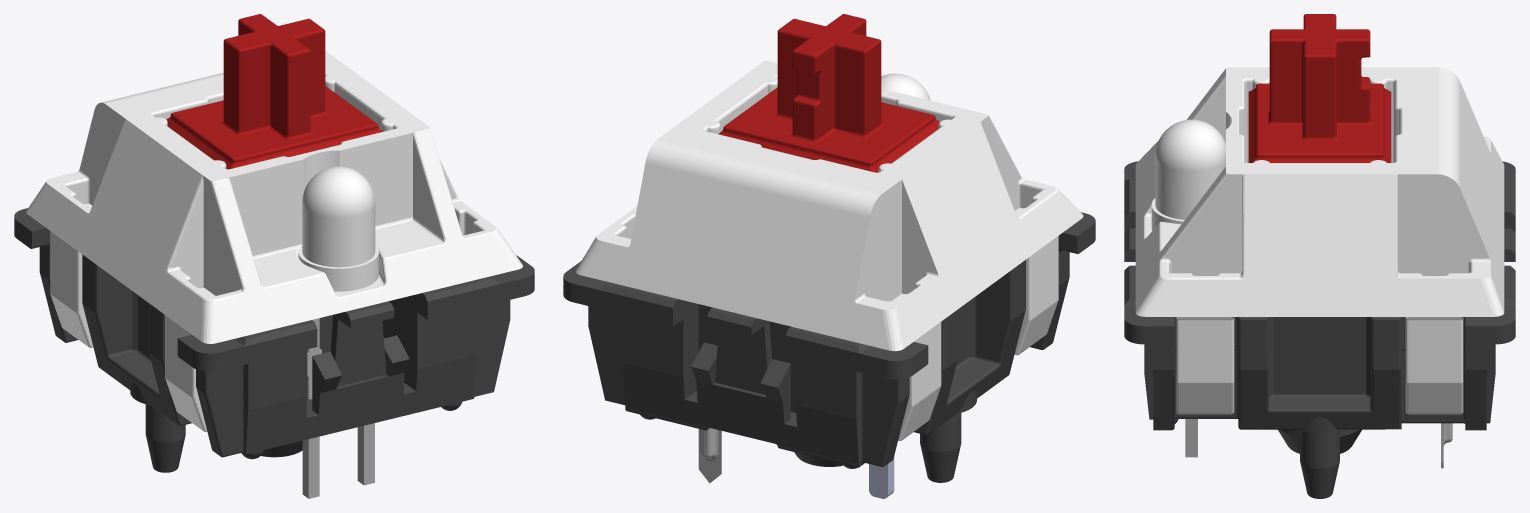
Rendered from Cherry MX.obj.
3 renders of one model, left to right at view 1: azimuth 30°, elevation 25°; view 2: azimuth 150°, elevation 25°; view 3: azimuth 270°, elevation 25°, orthographic. The views are drawn at different scales.
Visible parts, largest first — view 1: obj1, obj2, obj3, obj6, obj5; view 2: obj1, obj2, obj3, obj6, obj8; view 3: obj1, obj2, obj3, obj5, obj6.
Boxes of the visible parts, x1=… form: obj1: x1=26, y1=51, x2=522, y2=431; obj2: x1=14, y1=208, x2=534, y2=472; obj3: x1=166, y1=14, x2=382, y2=169; obj6: x1=302, y1=318, x2=374, y2=498; obj5: x1=52, y1=80, x2=461, y2=431; obj1: x1=575, y1=60, x2=1083, y2=440; obj2: x1=563, y1=212, x2=1095, y2=482; obj3: x1=718, y1=14, x2=939, y2=172; obj6: x1=698, y1=428, x2=721, y2=483; obj8: x1=869, y1=456, x2=894, y2=498; obj1: x1=1135, y1=67, x2=1504, y2=414; obj2: x1=1124, y1=161, x2=1515, y2=498; obj3: x1=1248, y1=14, x2=1391, y2=162; obj5: x1=1143, y1=81, x2=1460, y2=414; obj6: x1=1185, y1=419, x2=1452, y2=468.
Bounding box in the file's own units: 15.6 × 18 × 15.6.
